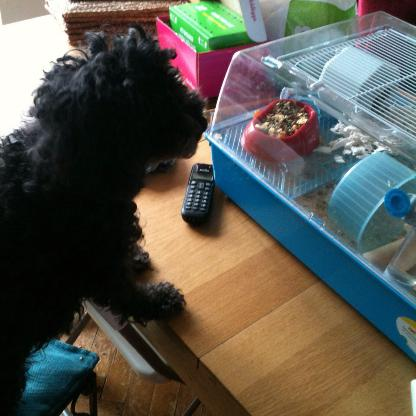Dog: (0, 20, 212, 414)
